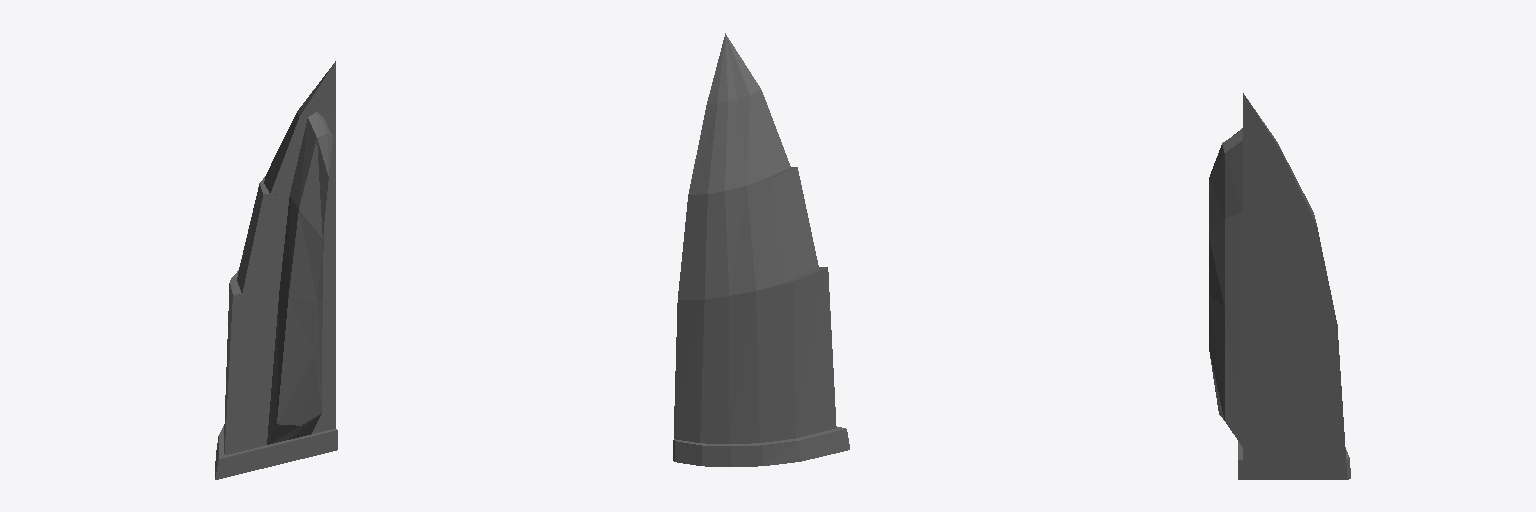
The model's file is floatr.obj.
3 renders of one model, left to right at view 1: azimuth 30°, elevation 25°; view 2: azimuth 150°, elevation 25°; view 3: azimuth 270°, elevation 25°, orthographic.
Parts seen in each view (by area): view 1: floatr; view 2: floatr; view 3: floatr.
Part boxes in pixels (left/top/right/bottom): floatr: left=215, top=61, right=337, bottom=479; floatr: left=673, top=33, right=849, bottom=466; floatr: left=1209, top=93, right=1350, bottom=479.
Bounding box in the file's own units: 5.97 × 17.95 × 5.98.